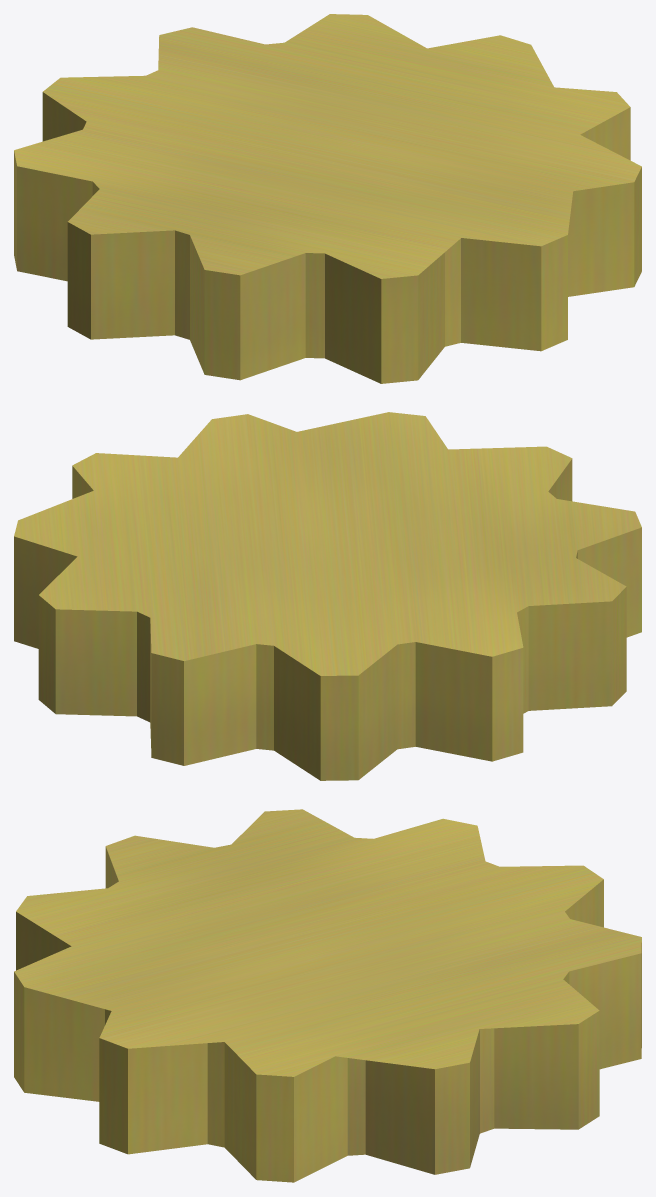
The model's file is Cog5Spoke011.fbx.
3 views of the same model, one above another, from view 1: azimuth 30°, elevation 25°; view 2: azimuth 150°, elevation 25°; view 3: azimuth 270°, elevation 25° (orthographic).
Visible parts, largest first — view 1: Cog5Spoke011; view 2: Cog5Spoke011; view 3: Cog5Spoke011.
Boxes of the visible parts, x1=… form: Cog5Spoke011: x1=14, y1=14, x2=641, y2=383; Cog5Spoke011: x1=14, y1=412, x2=641, y2=780; Cog5Spoke011: x1=14, y1=809, x2=641, y2=1182.
Size of the model in its own units: 107 by 19.69 by 106.
